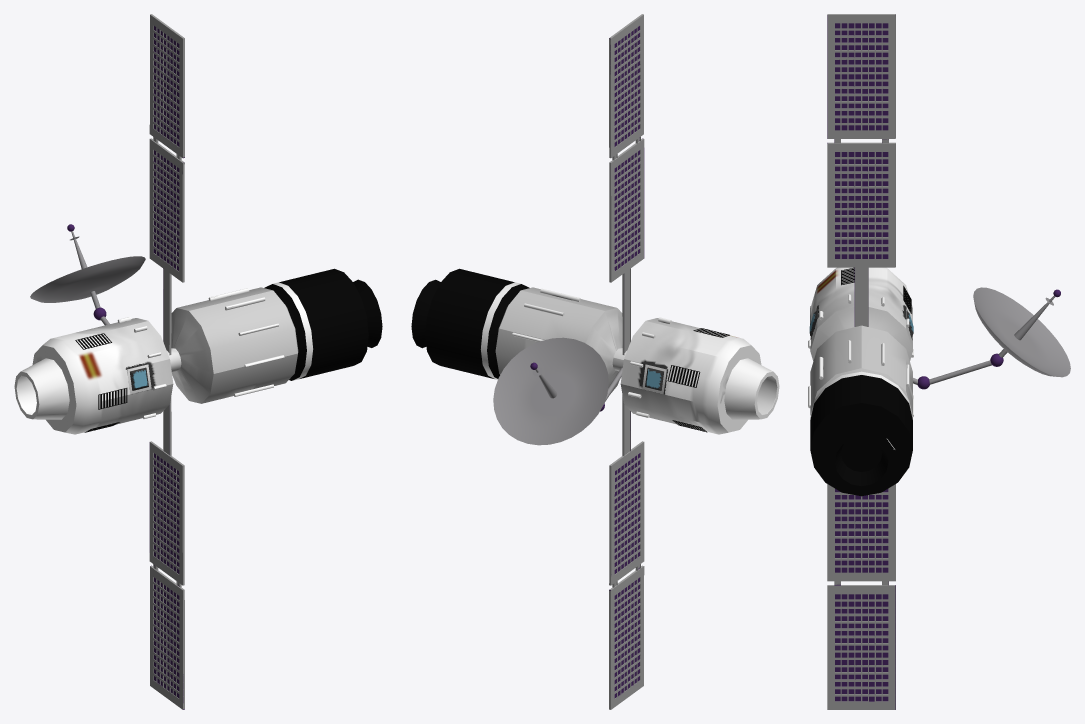
Rendered from station.glb.
3 views of the same model, side by side, from view 1: azimuth 30°, elevation 25°; view 2: azimuth 150°, elevation 25°; view 3: azimuth 270°, elevation 25° (orthographic). The views are drawn at different scales.
Parts seen in each view (by area): view 1: LifeMod, SolarPanel, SolarPanel.001, Thrust, Antenna, Tubes, Ventilation; view 2: LifeMod, Antenna, SolarPanel, SolarPanel.001, Thrust, Ventilation; view 3: SolarPanel, SolarPanel.001, Thrust, LifeMod, Antenna, Tubes.
Boxes of the visible parts, x1,y1,x2,y2 form: LifeMod: (14,287,298,434); SolarPanel: (149,14,184,355); SolarPanel.001: (149,397,184,709); Thrust: (264,268,382,380); Antenna: (30,224,145,325); Tubes: (208,288,284,396); Ventilation: (75,333,127,432); LifeMod: (495,287,779,434); Antenna: (493,337,622,445); SolarPanel: (609,14,644,354); SolarPanel.001: (609,395,644,709); Thrust: (411,268,529,379); Ventilation: (667,328,729,432); SolarPanel: (827,14,895,326); SolarPanel.001: (827,484,895,709); Thrust: (810,371,912,496); LifeMod: (809,267,913,415); Antenna: (913,287,1070,389); Tubes: (808,340,913,416).
Size of the model in its own units: 11.83 by 22.43 by 7.69.
5 materials, 5 textured.
